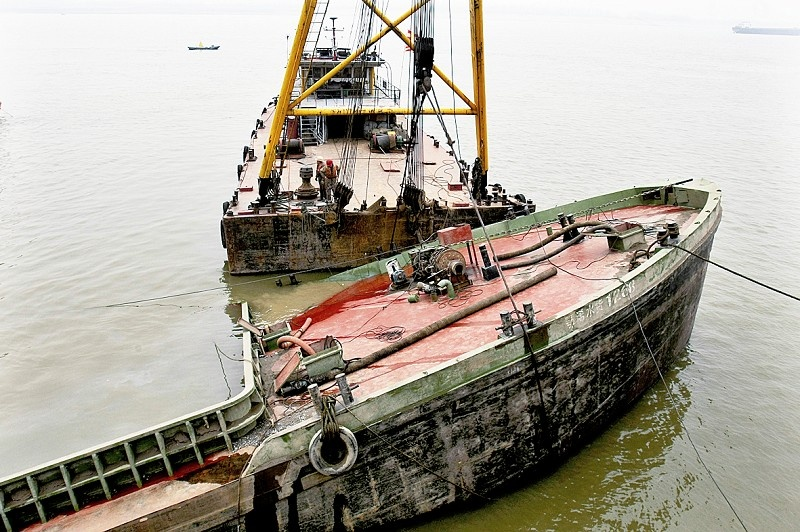otherboat: (6, 156, 737, 532)
